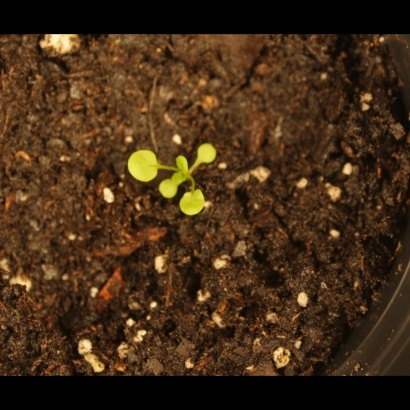leaf: (126, 146, 164, 187), (180, 190, 207, 219), (157, 176, 180, 204), (171, 153, 196, 177), (196, 142, 219, 165)
